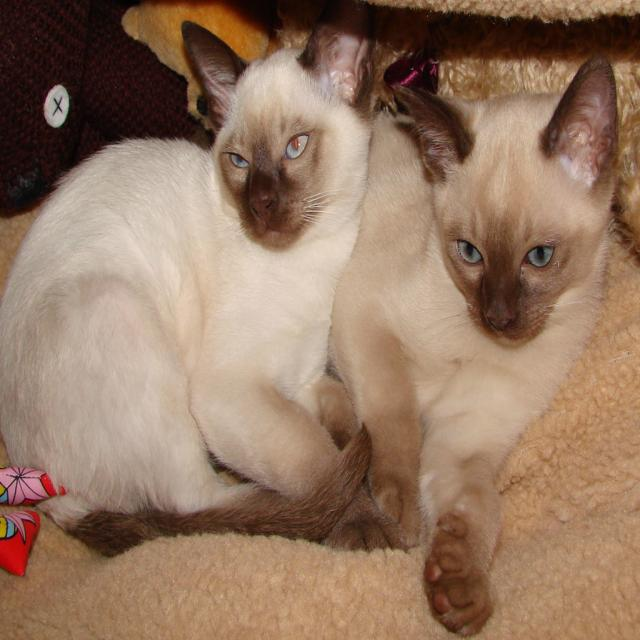Cat: (0, 0, 408, 567), (329, 45, 623, 637)
